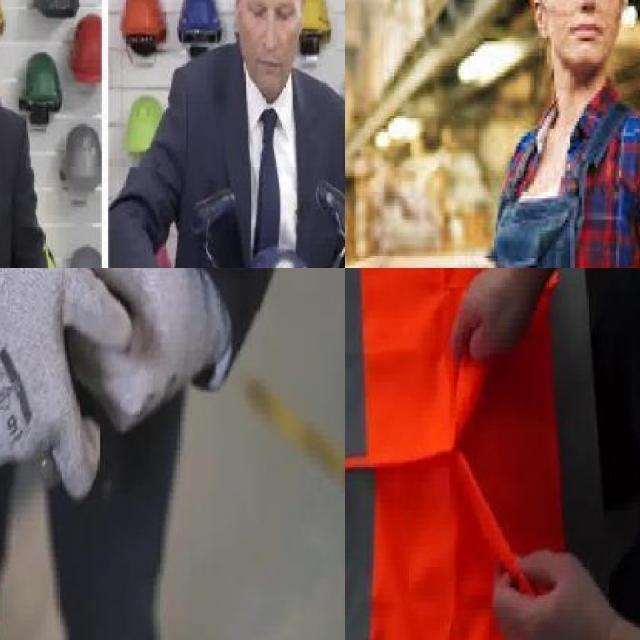apron: (0, 268, 135, 503), (66, 268, 231, 436)
